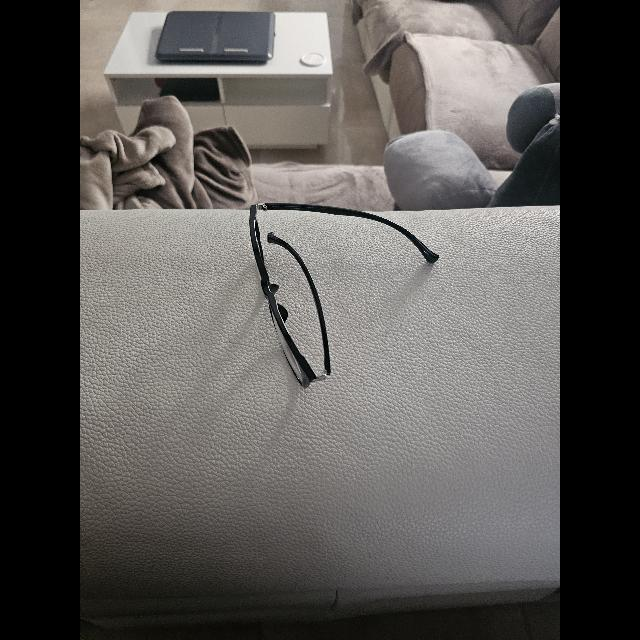glasses: (250, 202, 438, 388)
